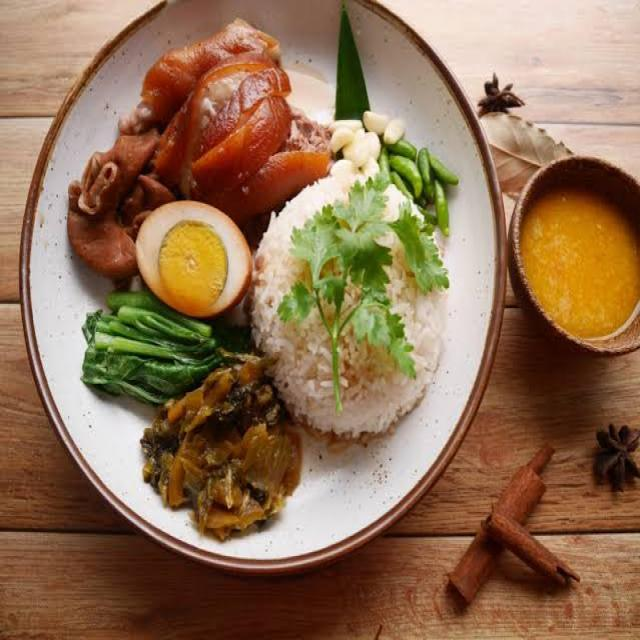carb: (267, 170, 442, 420)
meat: (82, 59, 334, 213)
stewed pork leg on rice: (42, 67, 468, 437)
vegetable: (95, 295, 214, 404)
